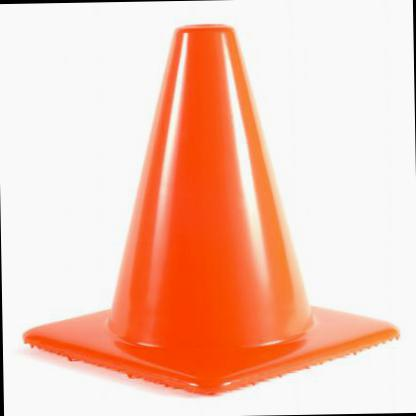cone: (15, 18, 402, 396)
